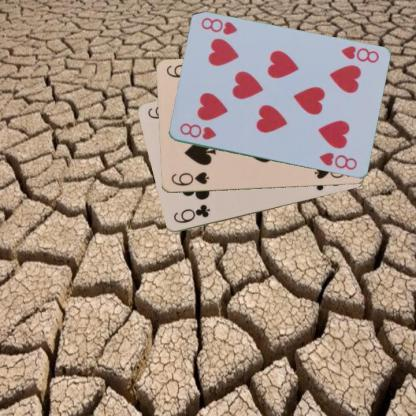6c: (170, 201, 212, 224)
6s: (169, 169, 210, 187)
8h: (338, 43, 380, 65), (177, 120, 217, 142)
